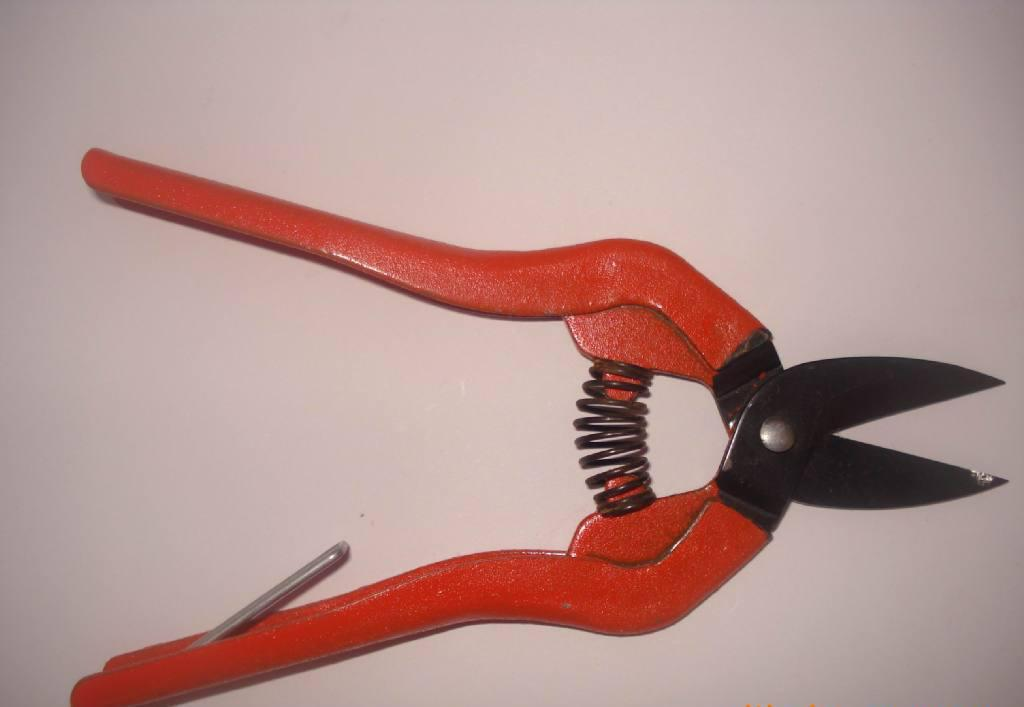scissor: (60, 80, 994, 693)
